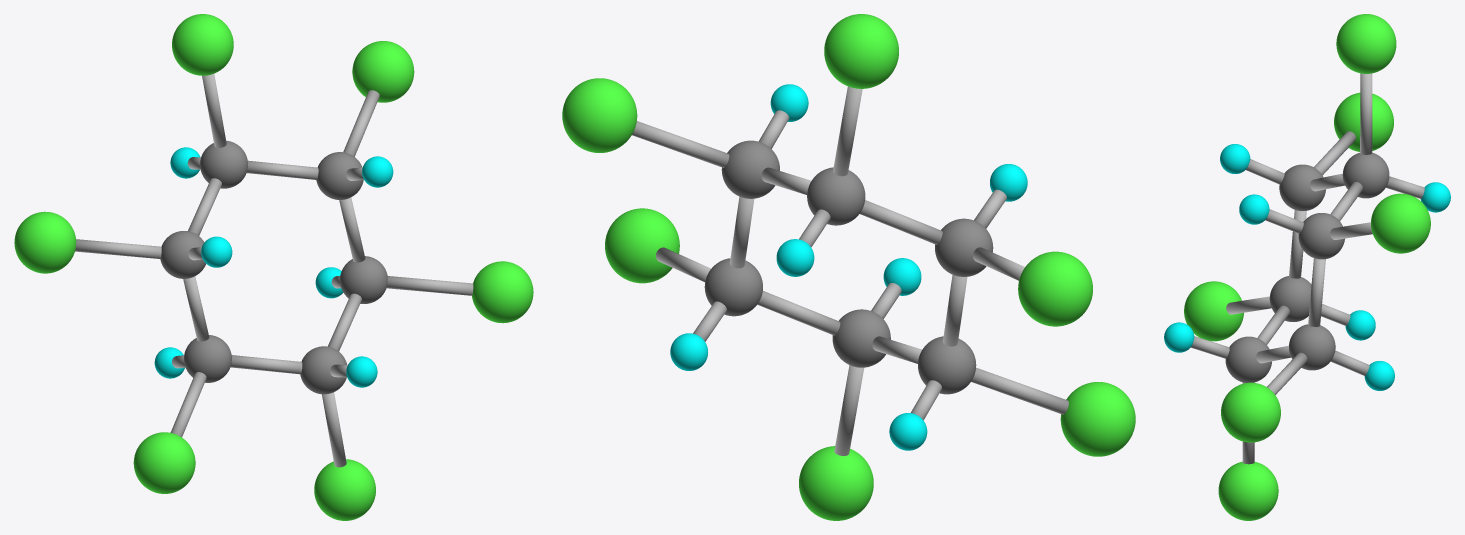
File: hexachlorocyclohexane.glb
3 renders of one model, left to right at view 1: azimuth 30°, elevation 25°; view 2: azimuth 150°, elevation 25°; view 3: azimuth 270°, elevation 25°, orthographic. The views are drawn at different scales.
Parts seen in each view (by area): view 1: CMAtom_0; view 2: CMAtom_0; view 3: CMAtom_0.
Part boxes in pixels (<box>): CMAtom_0: <box>14,14,533,520</box>; CMAtom_0: <box>562,14,1135,520</box>; CMAtom_0: <box>1164,14,1450,520</box>.
Bounding box in the file's own units: 0.6693 × 0.6738 × 0.3785.
